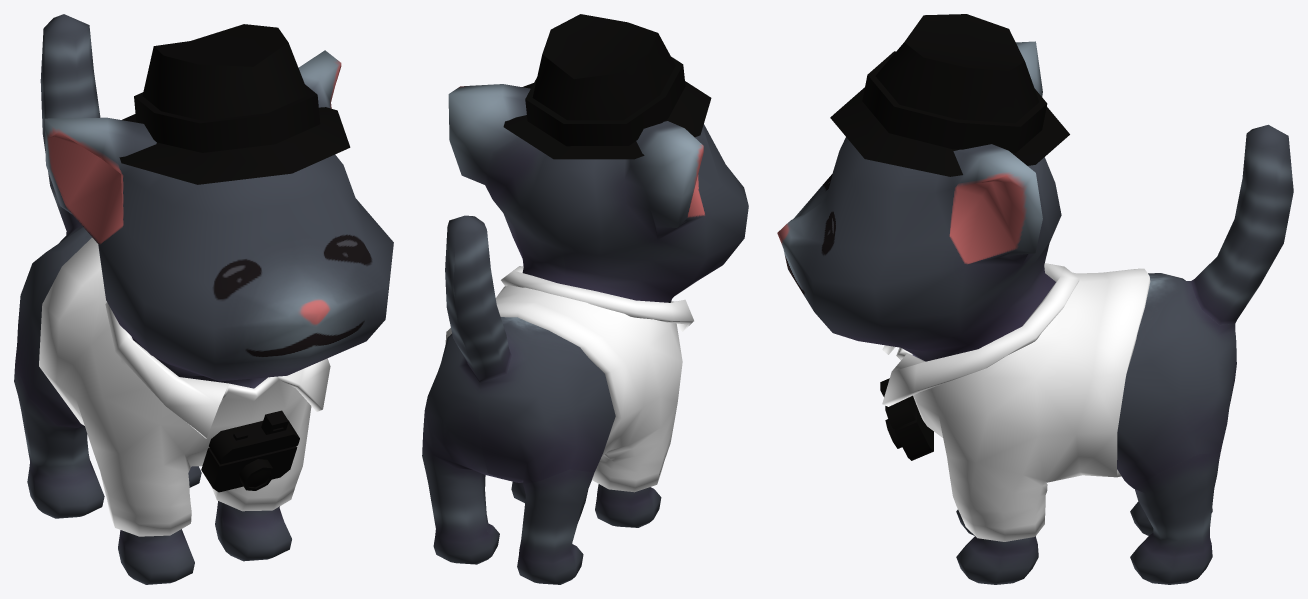
The model's file is Journalist Cat04.fbx.
3 renders of one model, left to right at view 1: azimuth 30°, elevation 25°; view 2: azimuth 150°, elevation 25°; view 3: azimuth 270°, elevation 25°, orthographic. The views are drawn at different scales.
Parts seen in each view (by area): view 1: Cat_Base003, Journalist_Cat_Shirt, Journalist_Cat_Hat, Journalist_Cat_Camera; view 2: Cat_Base003, Journalist_Cat_Hat, Journalist_Cat_Shirt; view 3: Cat_Base003, Journalist_Cat_Shirt, Journalist_Cat_Hat, Journalist_Cat_Camera.
Boxes of the visible parts, x1=… form: Cat_Base003: x1=14, y1=14, x2=393, y2=584; Journalist_Cat_Shirt: x1=39, y1=237, x2=330, y2=536; Journalist_Cat_Hat: x1=119, y1=24, x2=350, y2=184; Journalist_Cat_Camera: x1=201, y1=410, x2=299, y2=492; Cat_Base003: x1=422, y1=84, x2=748, y2=584; Journalist_Cat_Hat: x1=503, y1=14, x2=711, y2=159; Journalist_Cat_Shirt: x1=445, y1=266, x2=693, y2=492; Cat_Base003: x1=777, y1=41, x2=1293, y2=584; Journalist_Cat_Shirt: x1=882, y1=263, x2=1150, y2=541; Journalist_Cat_Hat: x1=830, y1=14, x2=1069, y2=176; Journalist_Cat_Camera: x1=880, y1=378, x2=933, y2=460.
Bounding box in the file's own units: 1.75 × 2.83 × 3.11.
3 materials, 1 textured.
